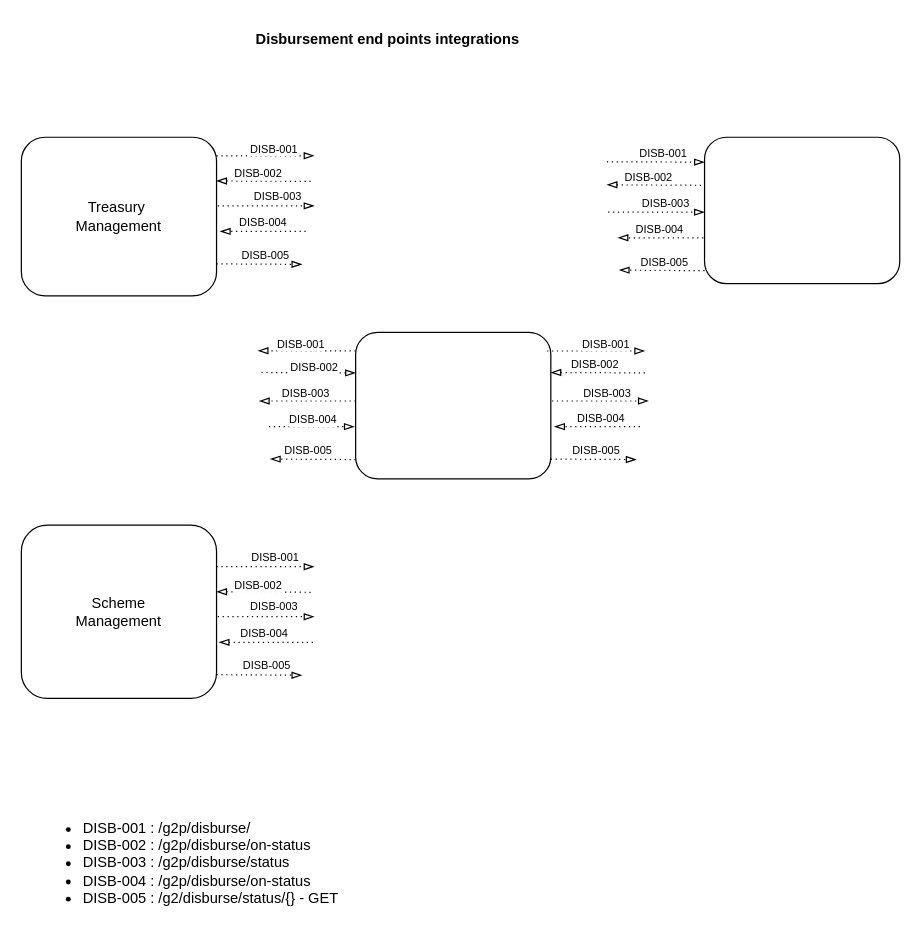
Some shapes in this 921 by 950 pixel diagram are drawn without their labels. Each missing label, with the centre of its shape:
"Payer Bank (FSP1)" belongs at point 801,210.
"Payment & Settlement Switch" belongs at point 452,405.
